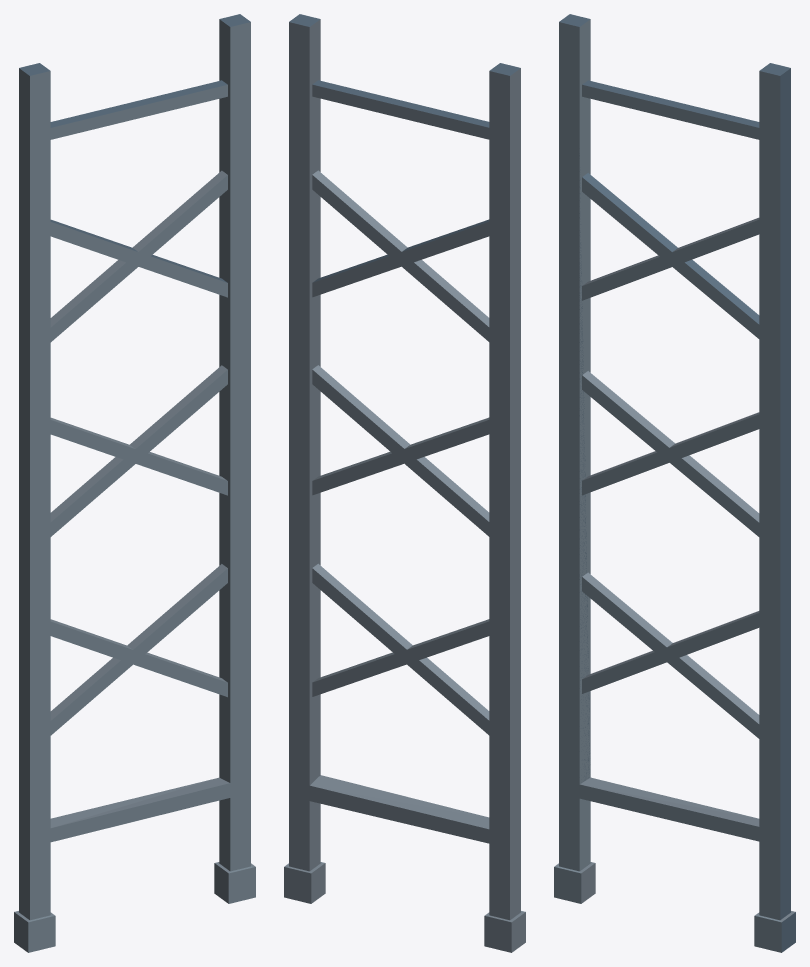
Rendered from rackblue.fbx.
3 views of the same model, side by side, from view 1: azimuth 30°, elevation 25°; view 2: azimuth 150°, elevation 25°; view 3: azimuth 330°, elevation 25° (orthographic).
Visible parts, largest first — view 1: SM_Rack_01.001; view 2: SM_Rack_01.001; view 3: SM_Rack_01.001.
Part boxes in pixels (<box>): SM_Rack_01.001: <box>14,14,255,952</box>; SM_Rack_01.001: <box>284,14,525,952</box>; SM_Rack_01.001: <box>554,14,795,952</box>.
Size of the model in its own units: 115 by 422 by 12.48.
